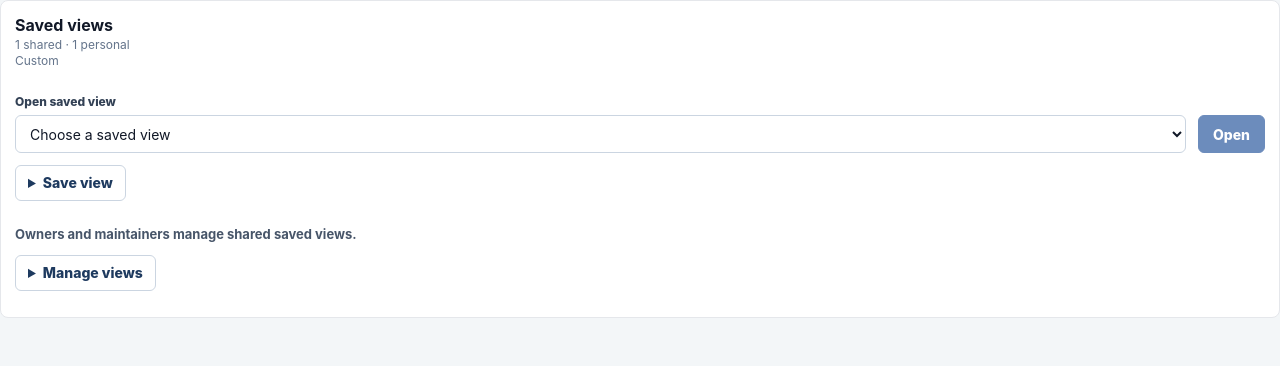
Test: SavedViewsToolbarComponent › renders compact open select groups with query summaries
Step 1. Select "Open owner work - 2 applied filters" in the dropdown labelled "Open saved view" → {"x": 600, "y": 134}, box left=15, top=115, right=1186, bottom=153
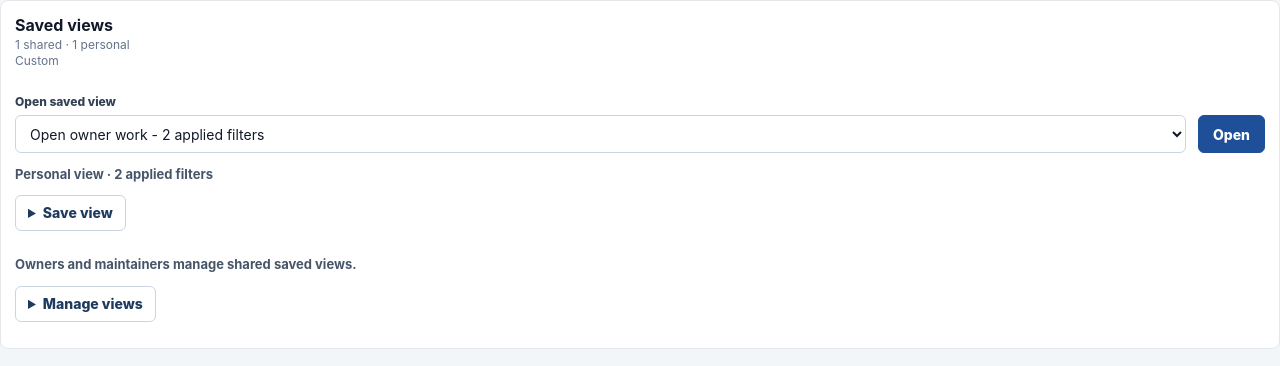
Now the text with class "saved-view-selected-summary" reads "Personal view · 2 applied filters", box left=15, top=166, right=213, bottom=182
